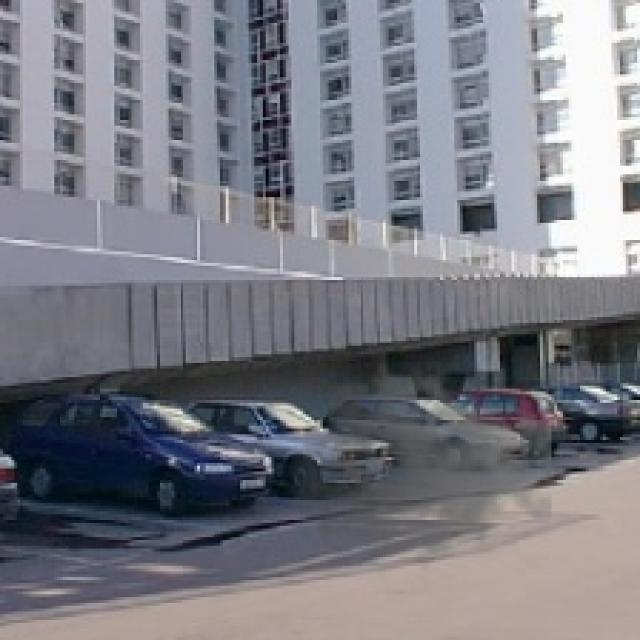Smoke: (286, 360, 552, 583)
